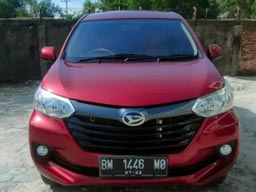plat: (97, 156, 168, 170)
